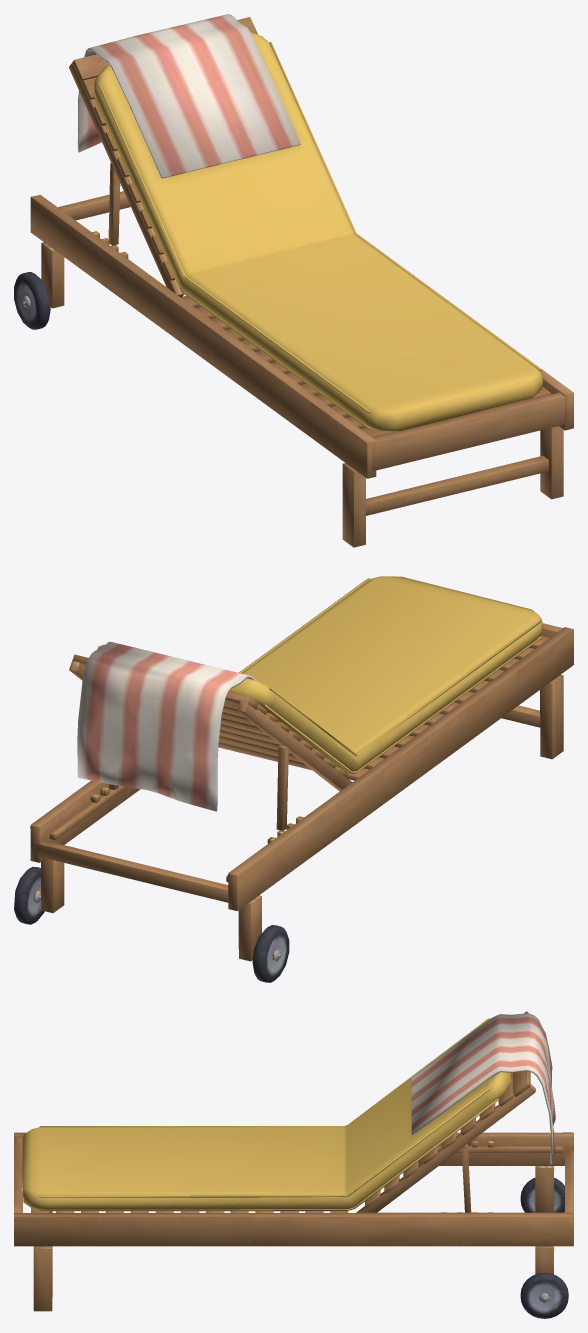
Rendered from sun-lounger.glb.
The picture shows the model from 3 angles, top to bottom: view 1: azimuth 30°, elevation 25°; view 2: azimuth 150°, elevation 25°; view 3: azimuth 270°, elevation 25°; orthographic projection. The views are drawn at different scales.
Visible parts, largest first — view 1: sun-lounger_body; view 2: sun-lounger_body; view 3: sun-lounger_body.
Boxes of the visible parts, x1,y1,x2,y2 form: sun-lounger_body: [14, 14, 573, 547]; sun-lounger_body: [14, 576, 573, 982]; sun-lounger_body: [14, 1011, 573, 1318].
Size of the model in its own units: 0.8714 by 0.8872 by 1.98.
1 material, 1 textured.
